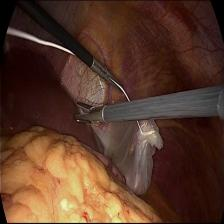Grasper: (70, 98, 106, 128), (94, 61, 124, 96)
Specimen Bag: (96, 111, 164, 202)
